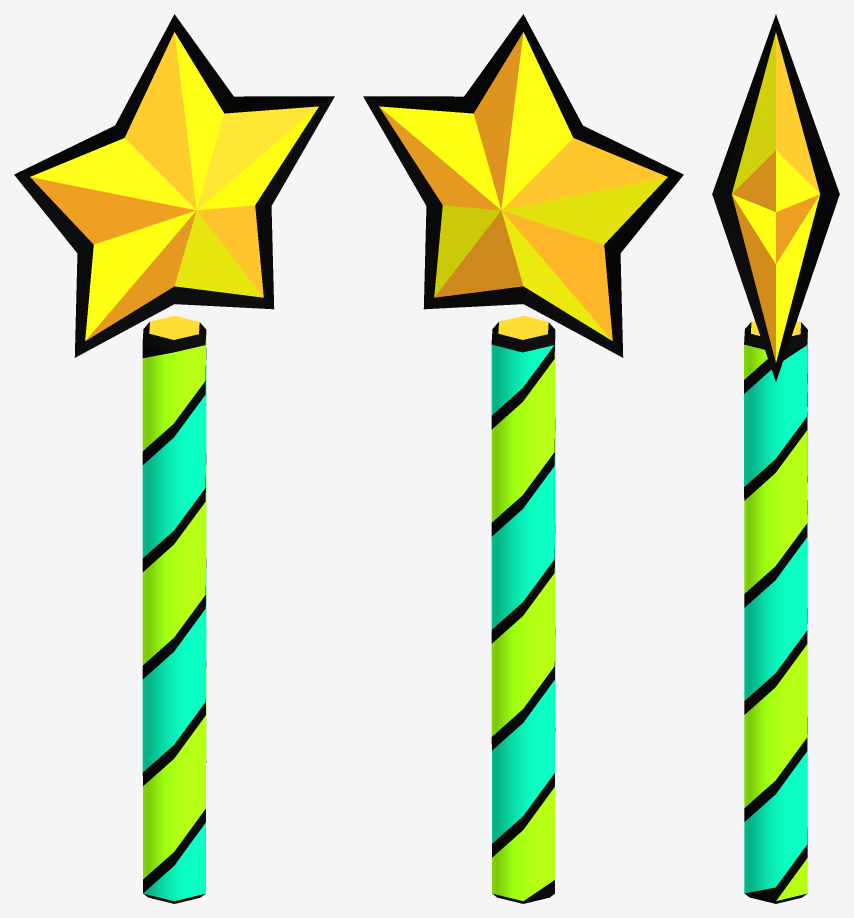
Rendered from cocobay_env_star.gltf.
The picture shows the model from 3 angles, left to right: view 1: azimuth 30°, elevation 25°; view 2: azimuth 150°, elevation 25°; view 3: azimuth 270°, elevation 25°; orthographic projection.
Visible parts, largest first — view 1: cocobay_env_star_glb; view 2: cocobay_env_star_glb; view 3: cocobay_env_star_glb.
Boxes of the visible parts, x1,y1,x2,y2 form: cocobay_env_star_glb: (14, 14, 334, 903); cocobay_env_star_glb: (363, 14, 683, 903); cocobay_env_star_glb: (712, 14, 839, 903).
Size of what is drawn, in the model's own units: 1.71 by 4.46 by 0.5888.
Materials: 1 (1 with a texture image).
